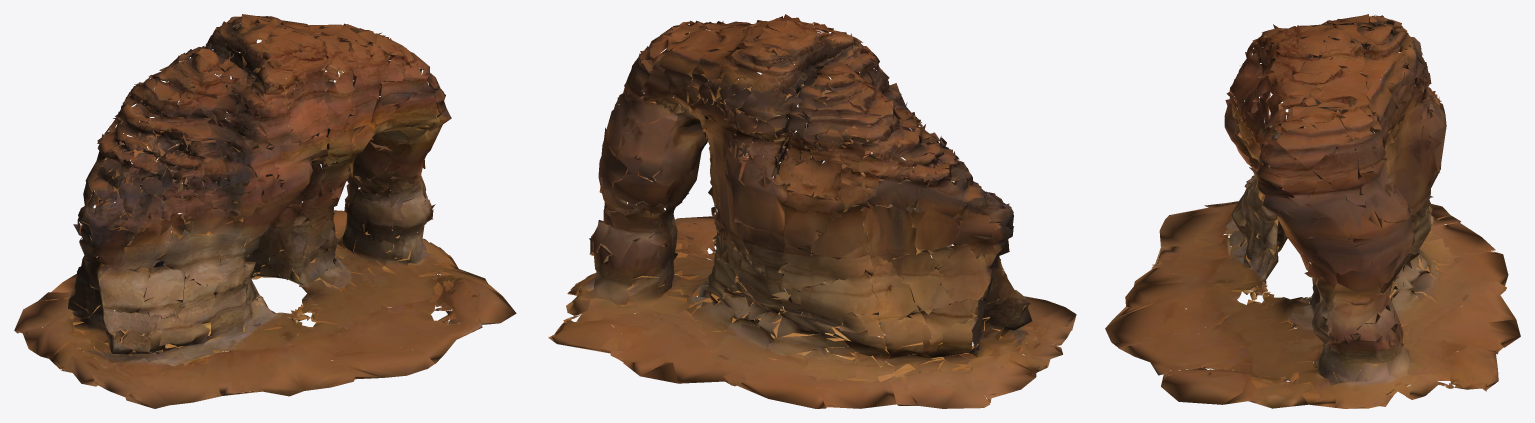
The model's file is Elephant_Rock_Formati_town.glb.
3 renders of one model, left to right at view 1: azimuth 30°, elevation 25°; view 2: azimuth 150°, elevation 25°; view 3: azimuth 270°, elevation 25°, orthographic. The views are drawn at different scales.
Visible parts, largest first — view 1: Elephant_Rock_Formati; view 2: Elephant_Rock_Formati; view 3: Elephant_Rock_Formati.
Part boxes in pixels (x1=…): Elephant_Rock_Formati: x1=14, y1=14, x2=516, y2=408; Elephant_Rock_Formati: x1=548, y1=14, x2=1076, y2=408; Elephant_Rock_Formati: x1=1105, y1=14, x2=1520, y2=408.
Bounding box in the file's own units: 1.9 × 1.21 × 1.55.
1 material, 1 textured.
